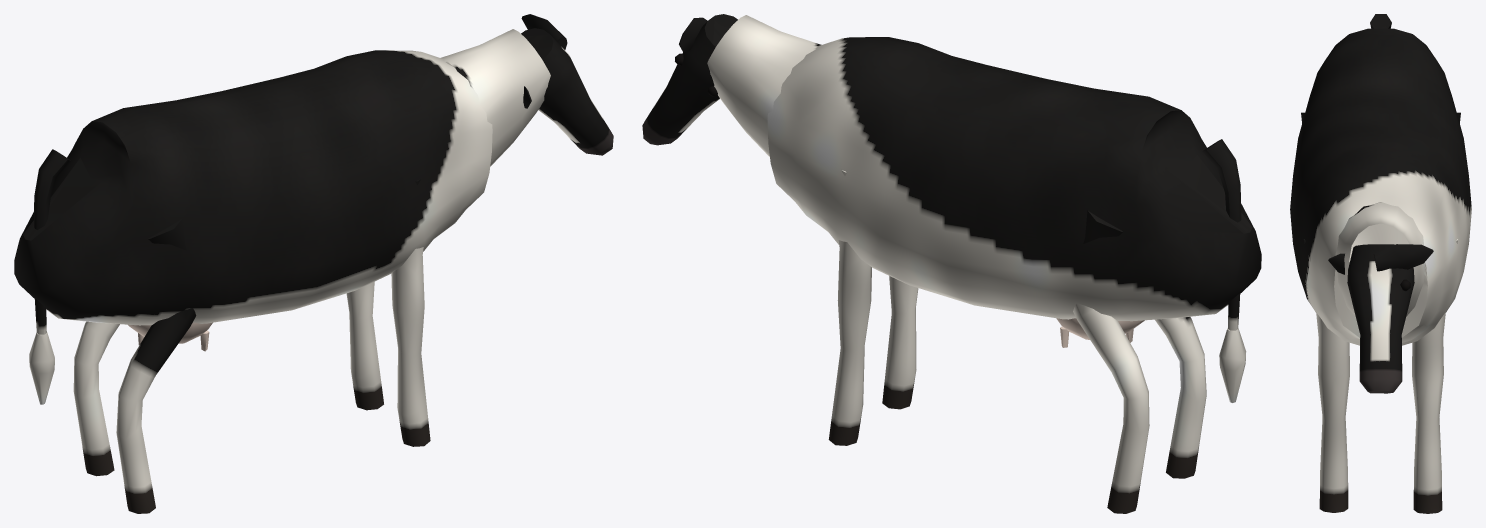
The model's file is tpl_life_herd_1970_cattle_holstein_stand.glb.
3 views of the same model, side by side, from view 1: azimuth 30°, elevation 25°; view 2: azimuth 150°, elevation 25°; view 3: azimuth 270°, elevation 25° (orthographic). The views are drawn at different scales.
Visible parts, largest first — view 1: tpl_life_herd_1970_cattle_holstein_stand; view 2: tpl_life_herd_1970_cattle_holstein_stand; view 3: tpl_life_herd_1970_cattle_holstein_stand.
Part boxes in pixels (x1,y1,x2,y2): tpl_life_herd_1970_cattle_holstein_stand: (14, 14, 613, 513); tpl_life_herd_1970_cattle_holstein_stand: (642, 14, 1261, 513); tpl_life_herd_1970_cattle_holstein_stand: (1290, 14, 1471, 513).
Bounding box in the file's own units: 2.34 × 1.41 × 0.6588.
2 materials, 1 textured.
